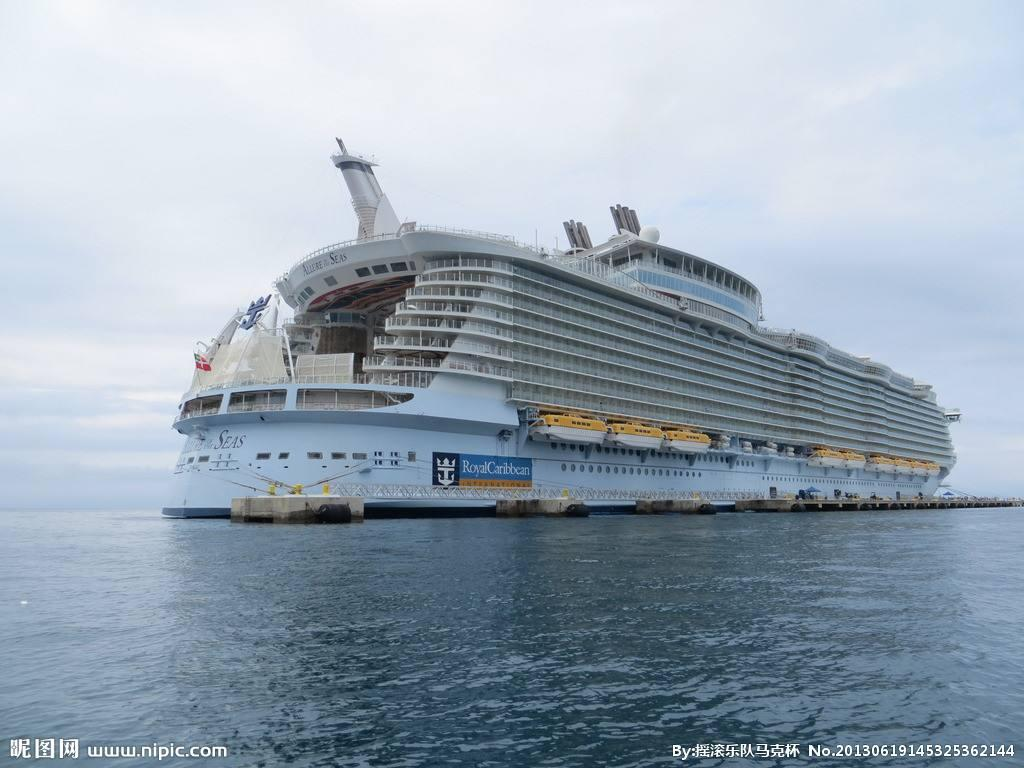youlun: (154, 212, 970, 520)
